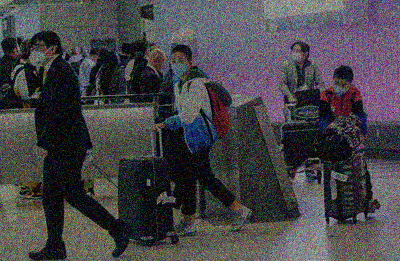with_mask: (28, 42, 46, 67), (170, 56, 188, 77), (332, 81, 350, 99), (291, 47, 304, 63)
